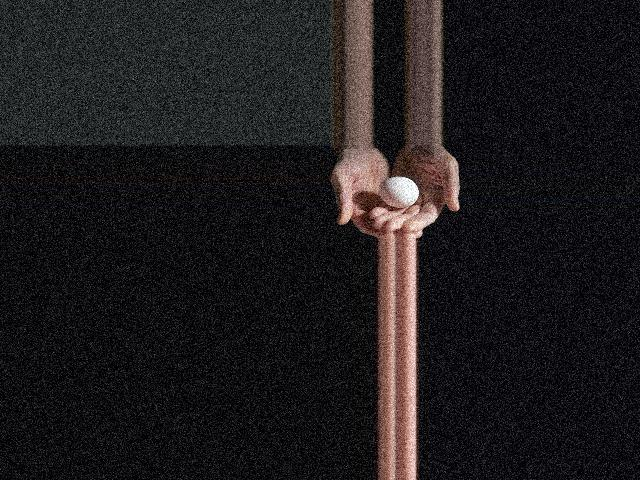egg: (379, 176, 419, 208)
